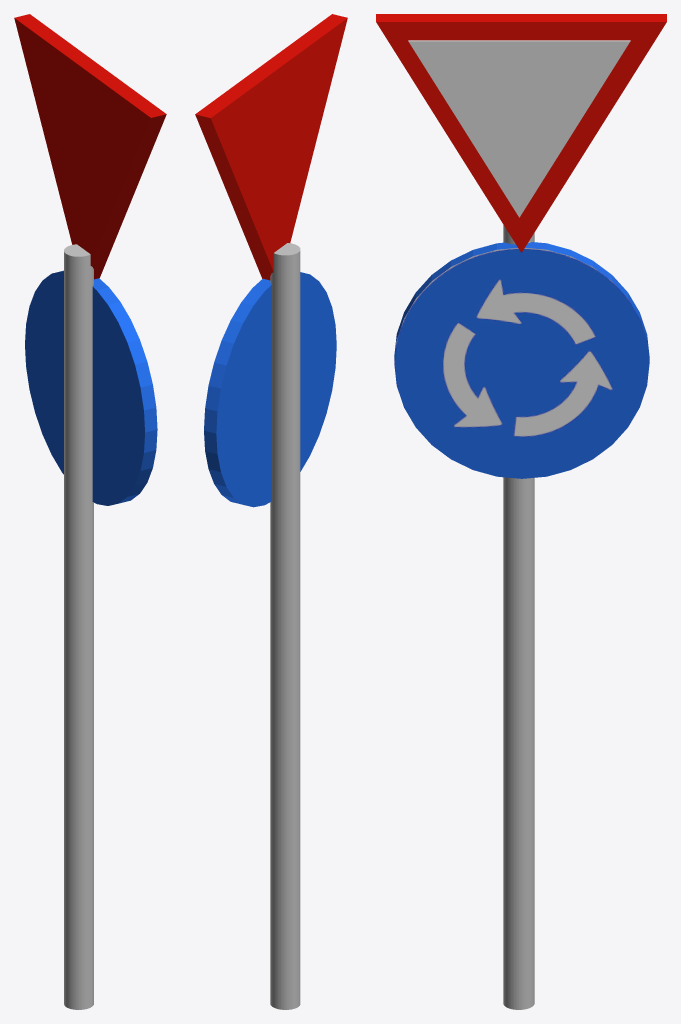
Rendered from rundkjøringsSkilt.fbx.
The picture shows the model from 3 angles, left to right: view 1: azimuth 30°, elevation 25°; view 2: azimuth 150°, elevation 25°; view 3: azimuth 270°, elevation 25°; orthographic projection. The views are drawn at different scales.
Parts seen in each view (by area): view 1: rundkjøringstang, vikepliktskilt, Rundkjøringskilt; view 2: rundkjøringstang, vikepliktskilt, Rundkjøringskilt; view 3: Rundkjøringskilt, vikepliktskilt, rundkjøringstang.
Part boxes in pixels (bbox=[...]): rundkjøringstang: bbox=[64, 244, 93, 1009]; vikepliktskilt: bbox=[14, 14, 166, 279]; Rundkjøringskilt: bbox=[25, 270, 157, 505]; rundkjøringstang: bbox=[270, 243, 300, 1009]; vikepliktskilt: bbox=[195, 14, 347, 280]; Rundkjøringskilt: bbox=[204, 272, 336, 507]; Rundkjøringskilt: bbox=[394, 242, 649, 478]; vikepliktskilt: bbox=[376, 14, 666, 252]; rundkjøringstang: bbox=[503, 225, 534, 1009].
Bounding box in the file's own units: 52.36 × 1314 × 349.
